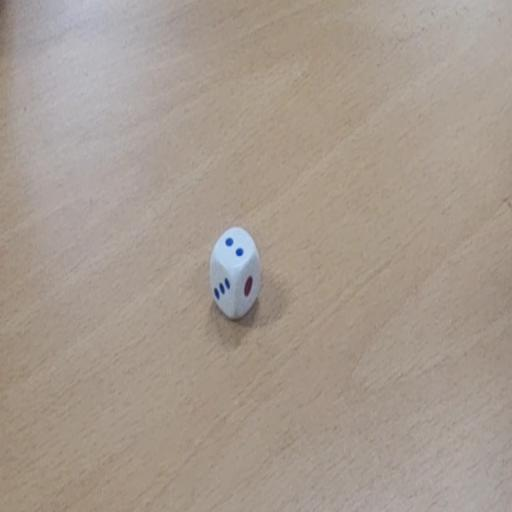dice_2: (209, 226, 263, 325)
